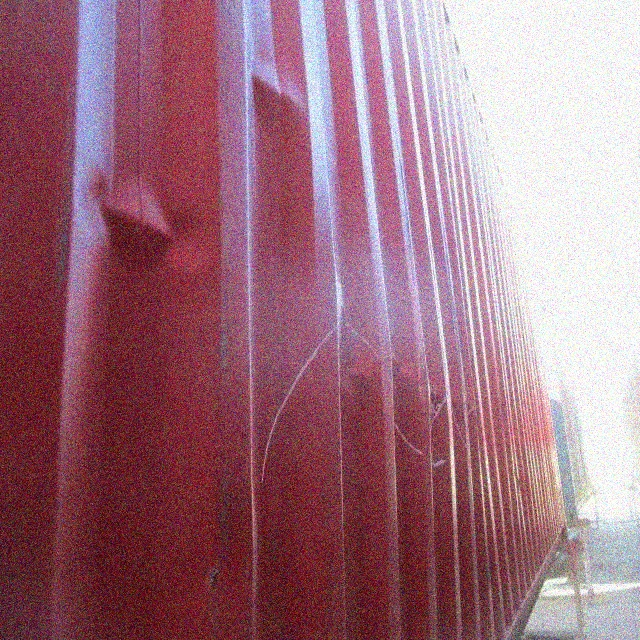Dent: (246, 275, 486, 483), (67, 144, 230, 302), (239, 38, 319, 141)
